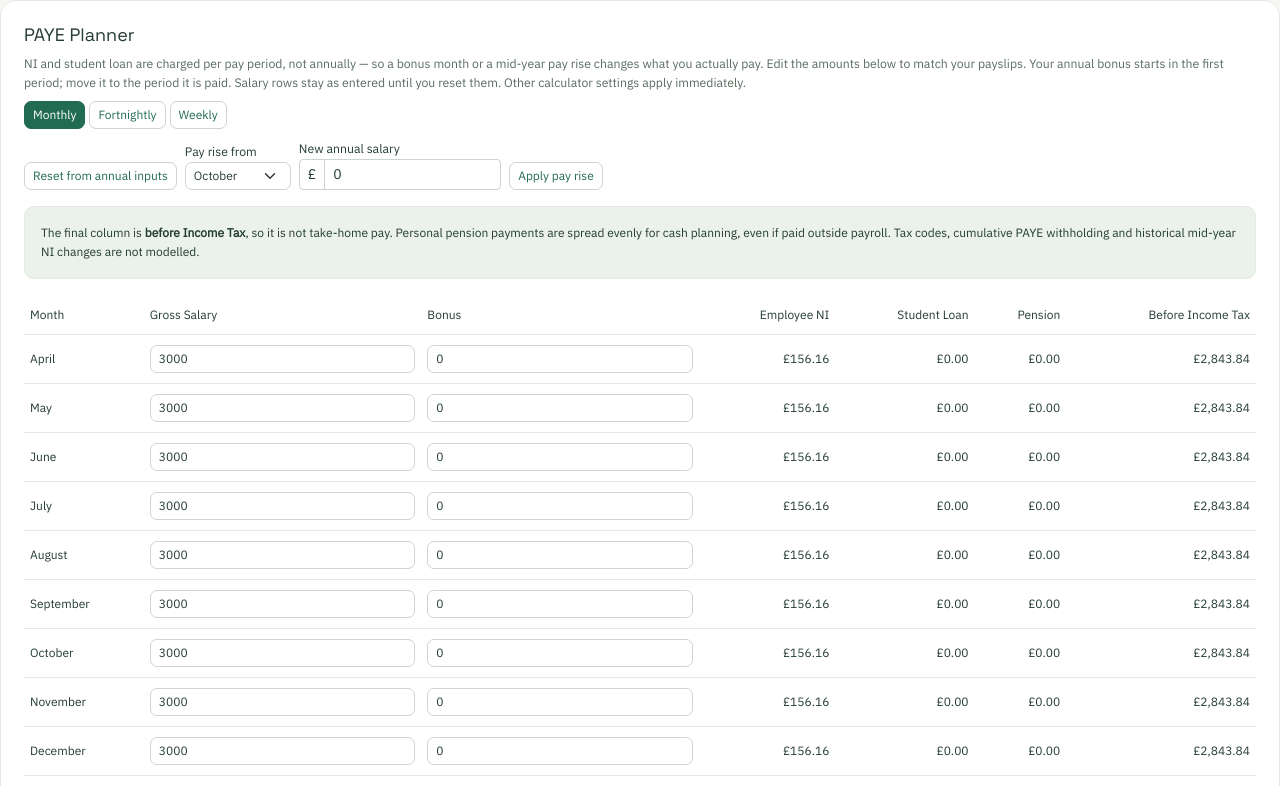
Scenario: PayePlanner › switches to fortnightly pay periods with 26 rows
The image size is (1280, 786).
Click the button "Fortnightly" at (128, 115), box [90, 101, 166, 129]
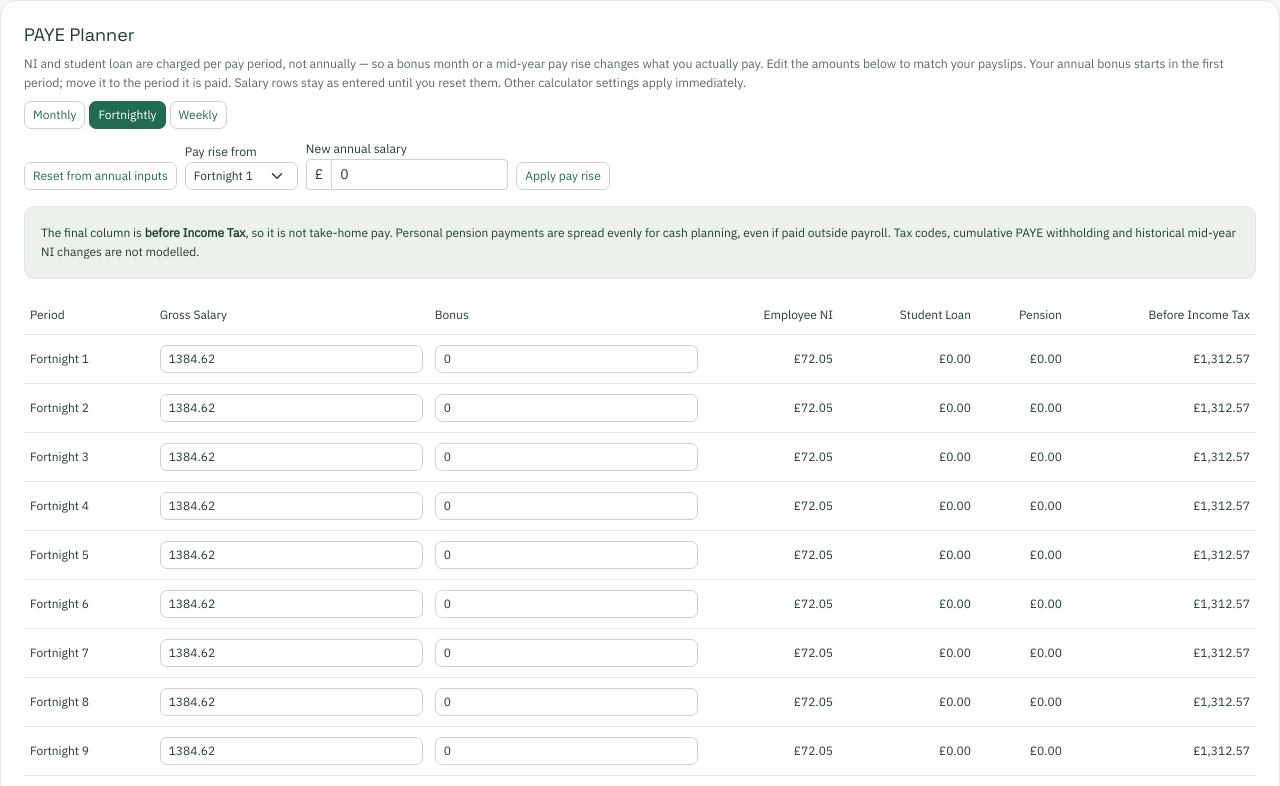
Check: the number of number fields named "gross salary" is 26
